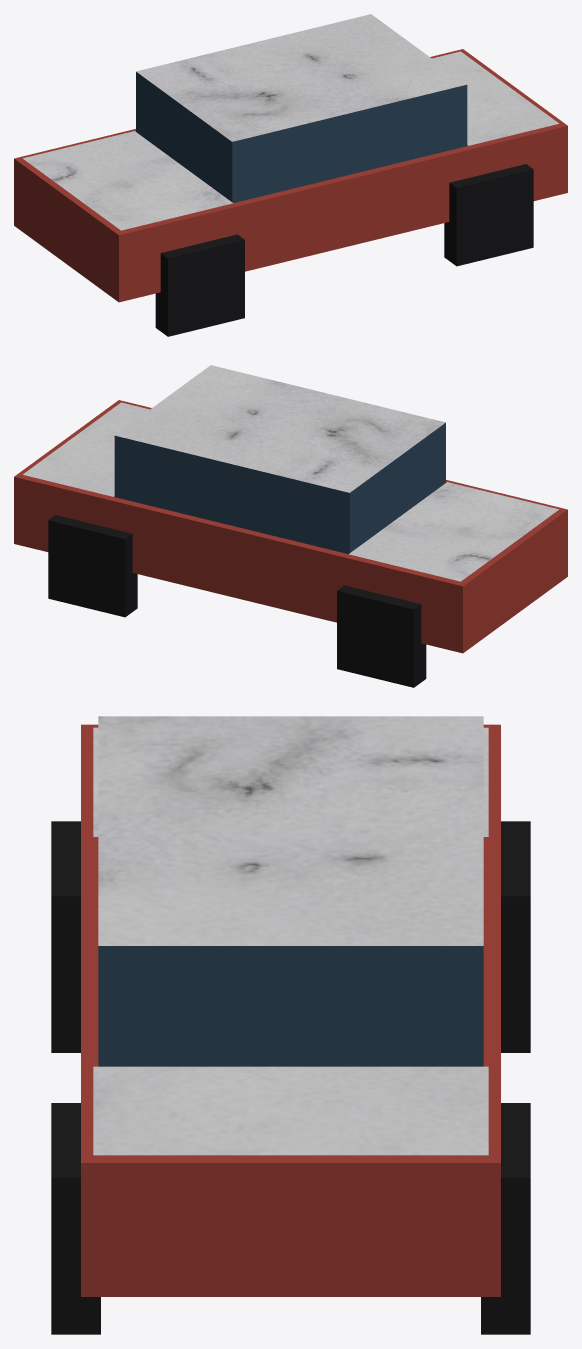
Rendered from c_car1.glb.
The picture shows the model from 3 angles, top to bottom: view 1: azimuth 30°, elevation 25°; view 2: azimuth 150°, elevation 25°; view 3: azimuth 270°, elevation 25°; orthographic projection. The views are drawn at different scales.
Visible parts, largest first — view 1: Car; view 2: Car; view 3: Car.
Boxes of the visible parts, x1,y1,x2,y2 form: Car: (14, 14, 567, 336); Car: (14, 365, 567, 687); Car: (51, 716, 530, 1334).
Size of the model in its own units: 4.2 by 1.5 by 1.94.
2 materials, 2 textured.
